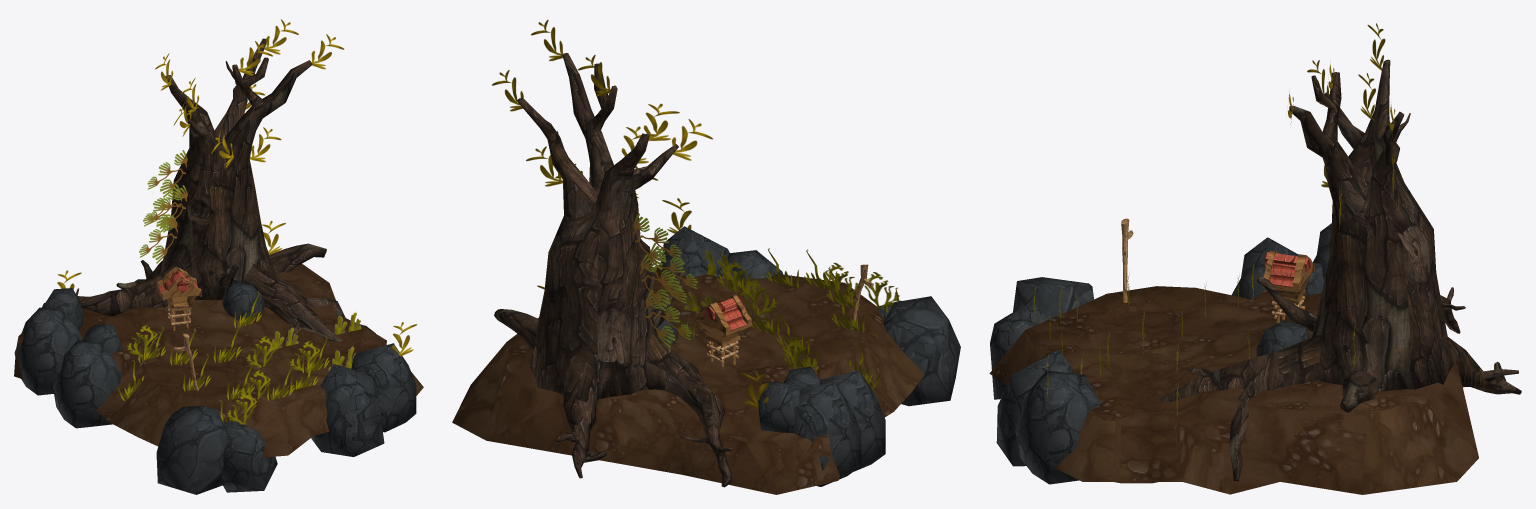
The model's file is the_enchanted.glb.
The picture shows the model from 3 angles, left to right: view 1: azimuth 30°, elevation 25°; view 2: azimuth 150°, elevation 25°; view 3: azimuth 270°, elevation 25°; orthographic projection. The views are drawn at different scales.
Parts seen in each view (by area): view 1: Plane, Cylinder, Cube.009, Cube.004, Cube.007, Cube, Cube.003, Cube.006, Cube.005, Cube.008, Cube.002, Cube.001 (+4 smaller); view 2: Plane, Cylinder, Cube.009, Cube, Cube.007, Cube.003, Cube.002, Cube.008, Cube.004, Plane.025, Plane.026, Plane.027 (+2 smaller); view 3: Plane, Cylinder, Cube.003, Cube.004, Cube.009, Cube.006, Cube.008, Cube.007, Cube.005.
Boxes of the visible parts, x1,y1,x2,y2 form: Plane: (14,264,423,457); Cylinder: (76,38,375,342); Cube.009: (156,405,228,494); Cube.004: (311,364,384,456); Cube.007: (53,340,120,428); Cube: (14,307,83,395); Cube.003: (351,343,416,432); Cube.006: (221,420,277,492); Cube.005: (222,280,264,320); Cube.008: (157,266,201,311); Cube.002: (42,288,83,329); Cube.001: (83,324,122,352); Plane: (452,266,924,494); Cylinder: (494,53,734,487); Cube.009: (883,296,960,406); Cube: (793,382,861,486); Cube.007: (820,370,885,471); Cube.003: (659,226,730,276); Cube.002: (758,381,800,432); Cube.008: (694,294,751,346); Cube.004: (723,250,783,279); Plane.025: (633,213,681,269); Plane.026: (640,254,686,310); Plane.027: (645,290,691,347); Plane: (989,277,1478,494); Cylinder: (1160,59,1521,481); Cube.003: (1015,370,1100,484); Cube.004: (996,350,1074,466); Cube.009: (1013,277,1093,319); Cube.006: (990,301,1048,399); Cube.008: (1262,250,1314,303); Cube.007: (1231,237,1297,299); Cube.005: (1256,320,1308,356).
Bounding box in the file's own units: 3.72 × 3.8 × 4.17.
15 materials, 15 textured.
